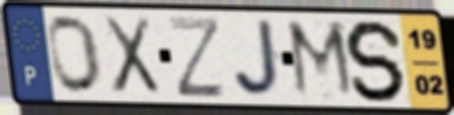J: (231, 18, 286, 100)
M: (283, 17, 360, 102)
O: (45, 12, 105, 96)
S: (342, 18, 409, 105)
X: (99, 14, 162, 96)
Z: (165, 15, 229, 100)
